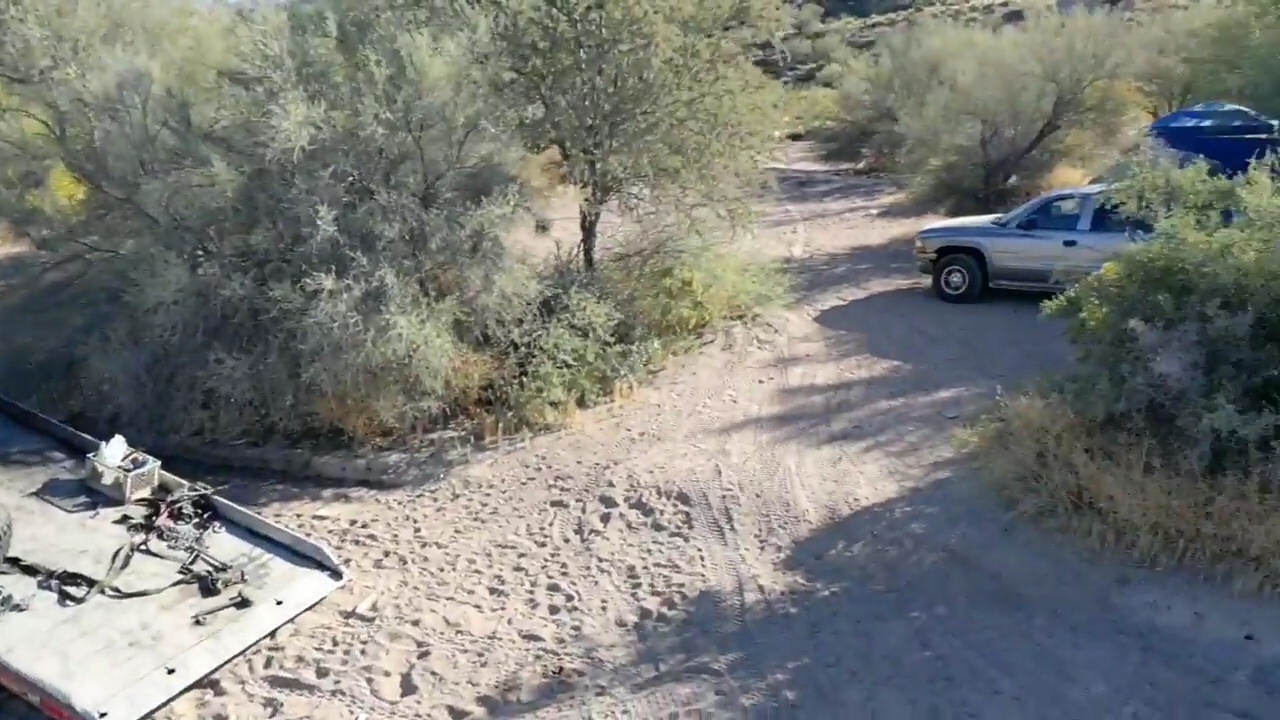araba: (908, 175, 1209, 293)
